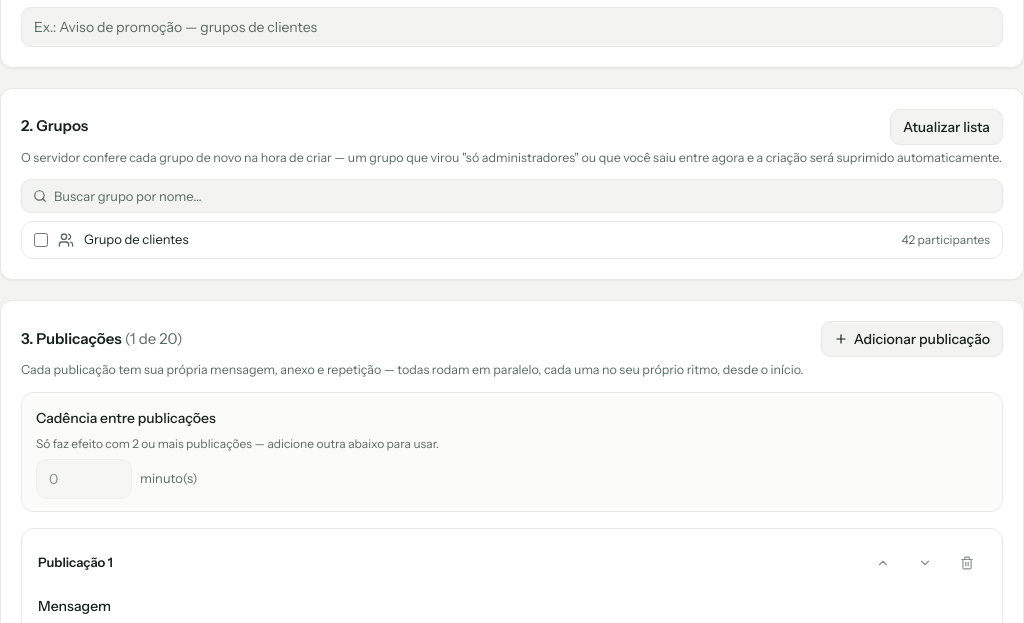
Scenario: GroupBroadcastCreateForm — múltiplas publicações (2026-09-14) › "Remover publicação" some com a etapa correspondente
Expected: the text "Grupo de clientes" is shown, [84, 231, 189, 247]
Step 1. Type "Disparo" into the field labelled "Nome do disparo" → (512, 26), box [21, 6, 1003, 46]
(page scrolled)
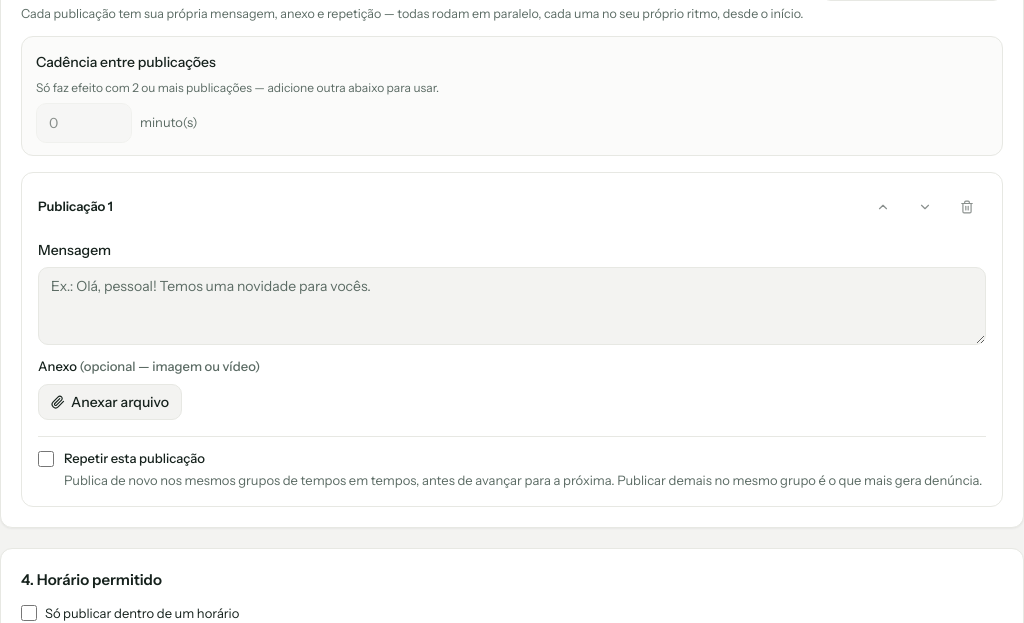
Step 2. Type "Primeira" into the text box labelled "Mensagem" → (512, 306), box [38, 266, 986, 344]
(page scrolled)
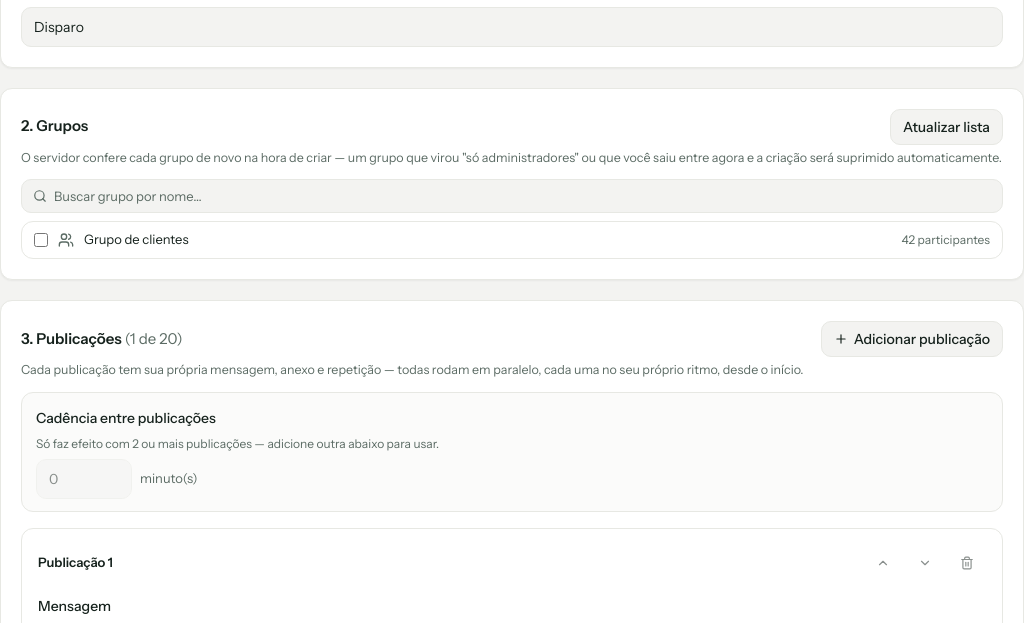
Step 3. Click the checkbox labelled "Grupo de clientes 42 participantes" → (41, 240), box [34, 233, 48, 247]
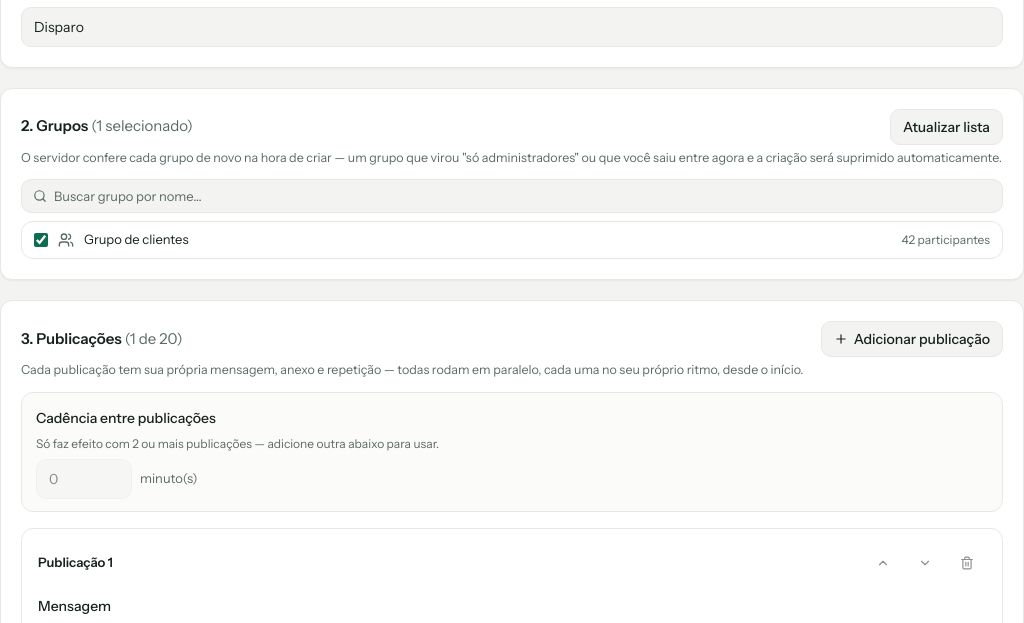
Step 4. Click the button "Adicionar publicação" → (912, 339), box [821, 321, 1003, 357]
(page scrolled)
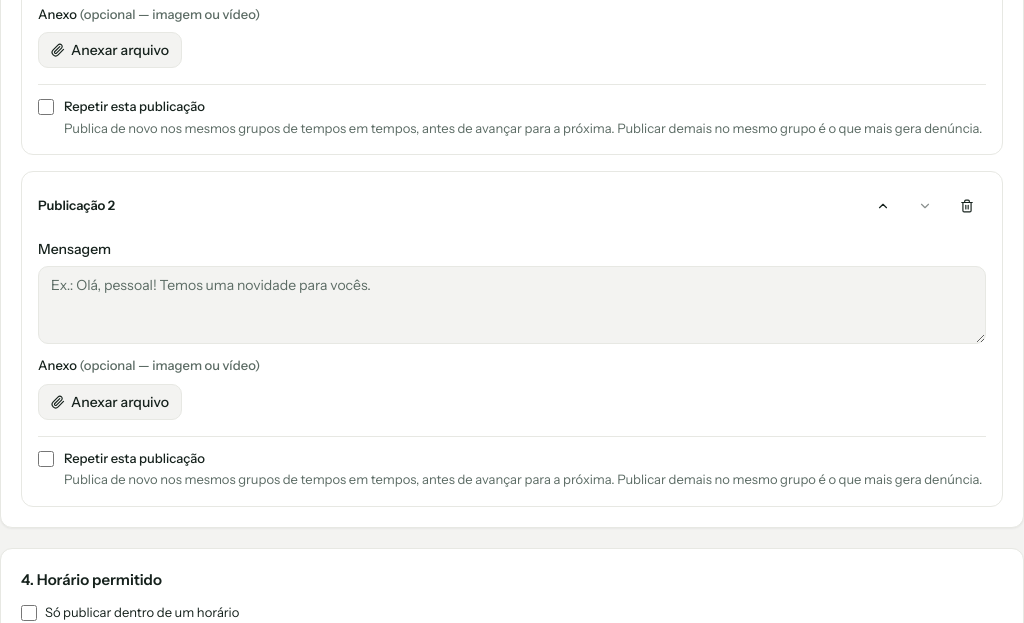
Step 5. Type "Segunda" into the 2nd text box labelled "Mensagem" → (512, 305), box [38, 266, 986, 344]
(page scrolled)
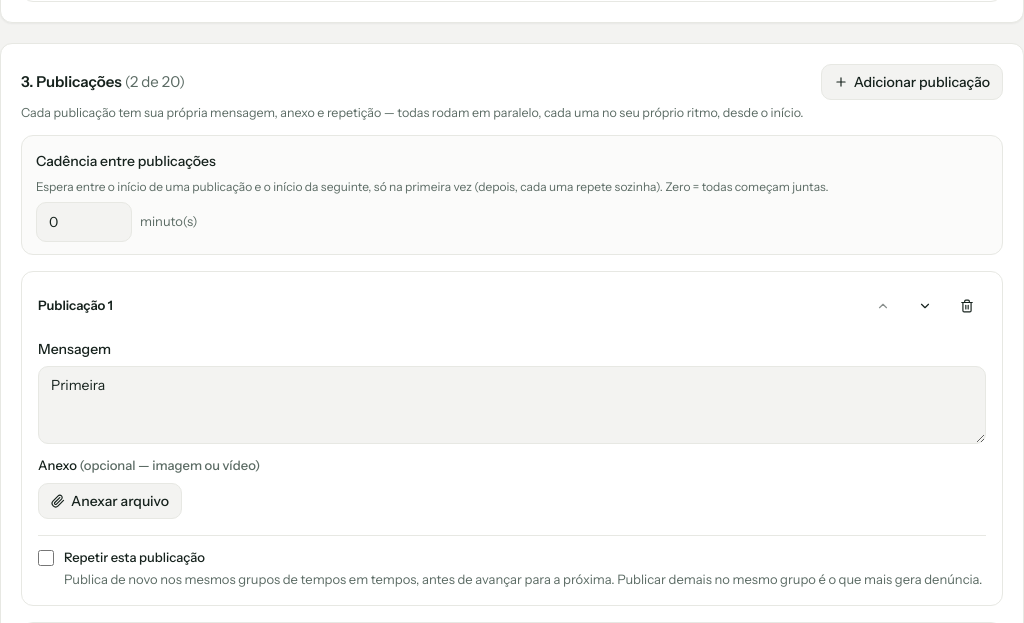
Step 6. Click the button named "Remover publicação 1" → (967, 306), box [948, 288, 986, 324]
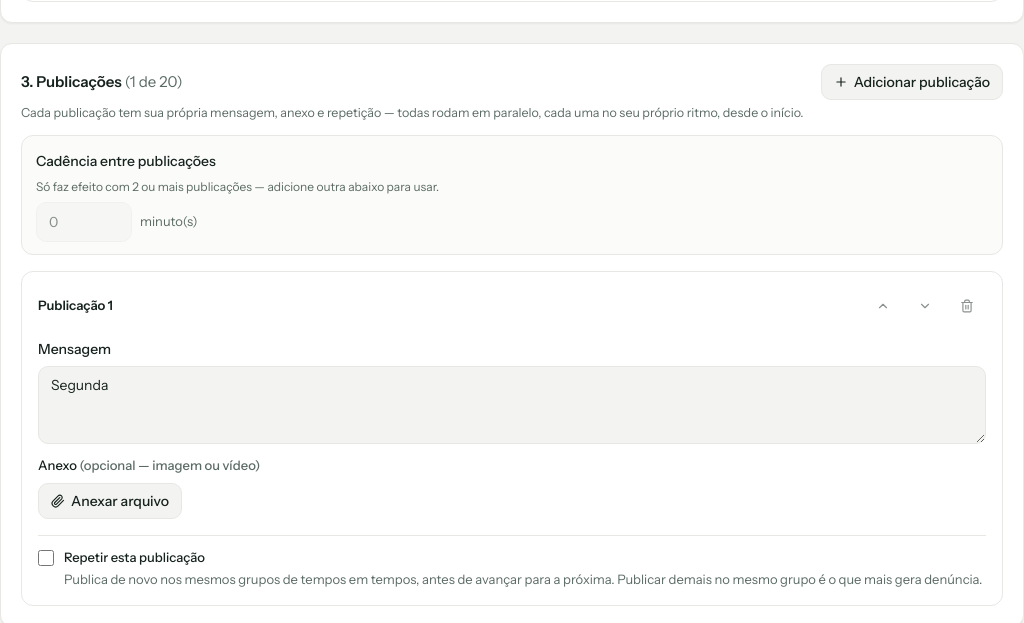
Expected: the number of text boxes labelled "Mensagem" is 1, [38, 366, 986, 444]
